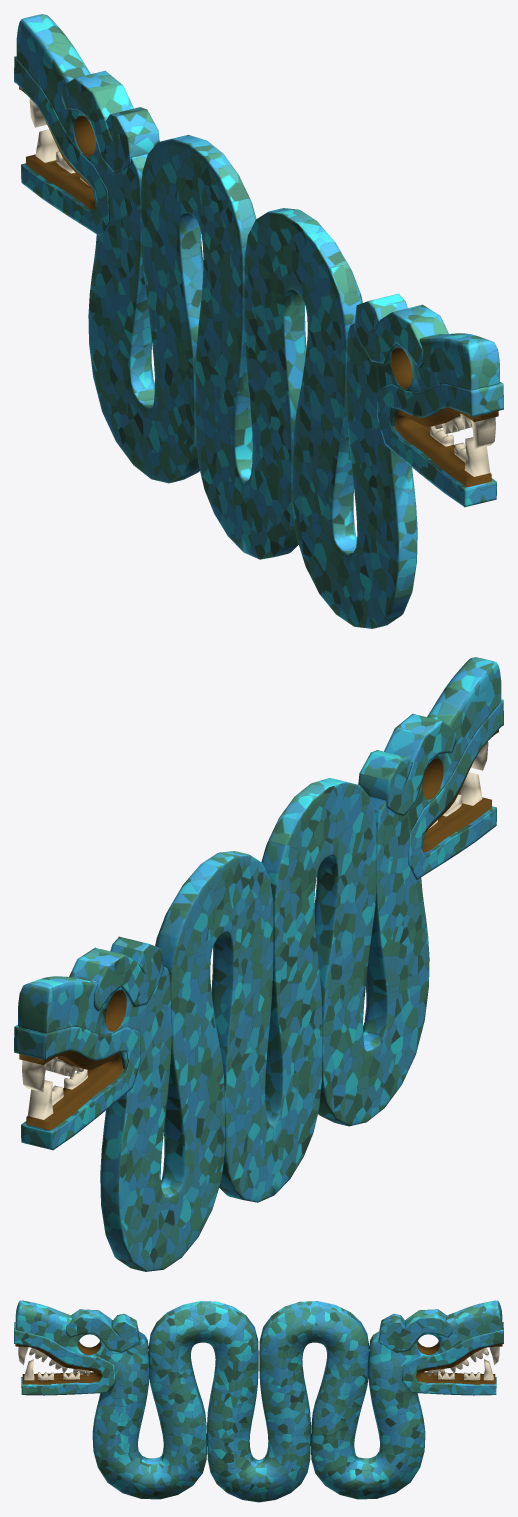
File: 2snake.glb
3 renders of one model, top to bottom at view 1: azimuth 30°, elevation 25°; view 2: azimuth 150°, elevation 25°; view 3: azimuth 270°, elevation 25°, orthographic. The views are drawn at different scales.
Parts seen in each view (by area): view 1: snake; view 2: snake; view 3: snake.
Boxes of the visible parts, x1=… form: snake: x1=14, y1=14, x2=503, y2=628; snake: x1=14, y1=657, x2=503, y2=1271; snake: x1=14, y1=1300, x2=503, y2=1502.
Bounding box in the file's own units: 0.4989 × 5 × 11.19.
3 materials, 1 textured.
